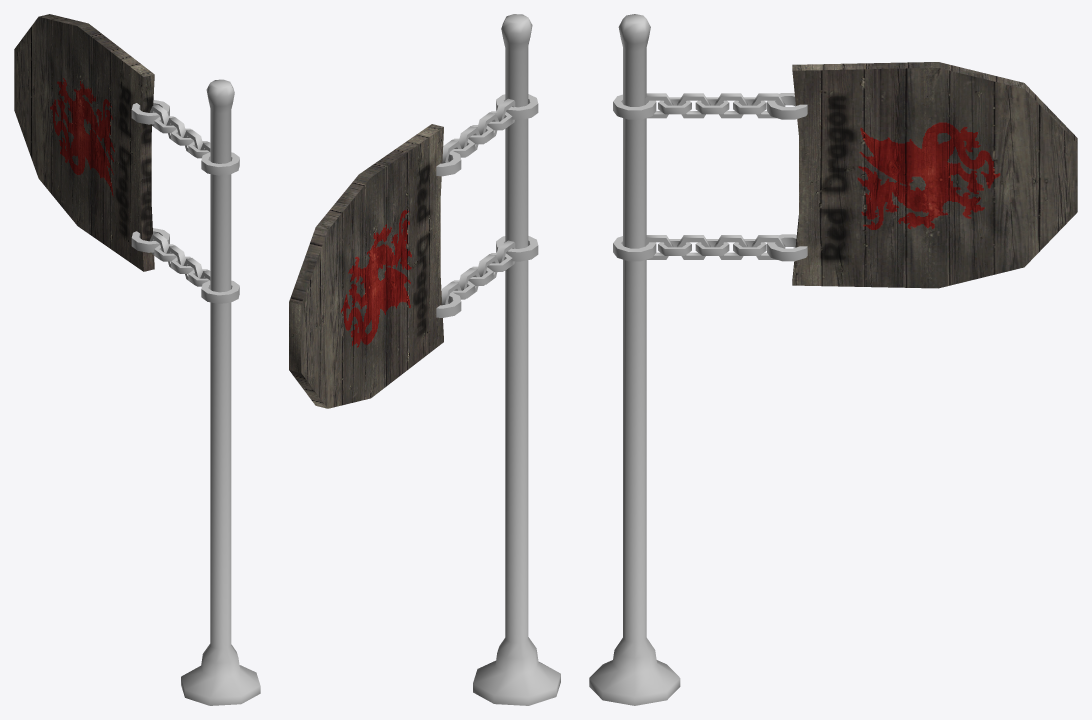
The model's file is constuct_shild_A.fbx.
3 views of the same model, side by side, from view 1: azimuth 30°, elevation 25°; view 2: azimuth 150°, elevation 25°; view 3: azimuth 270°, elevation 25° (orthographic). The views are drawn at different scales.
Parts seen in each view (by area): view 1: object; view 2: object; view 3: object.
Boxes of the visible parts, x1,y1,x2,y2 form: object: (14,14,260,705); object: (289,14,560,705); object: (589,14,1077,705).
Bounding box in the file's own units: 5.36 × 43.43 × 28.79.
